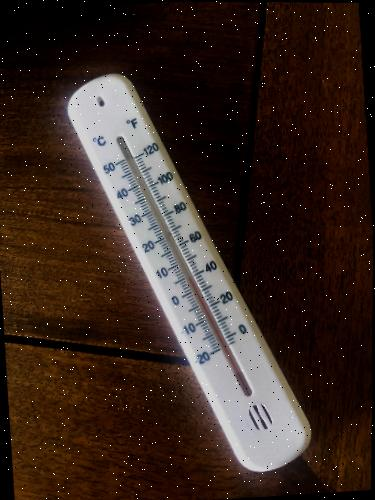thermo: (60, 67, 319, 478)
